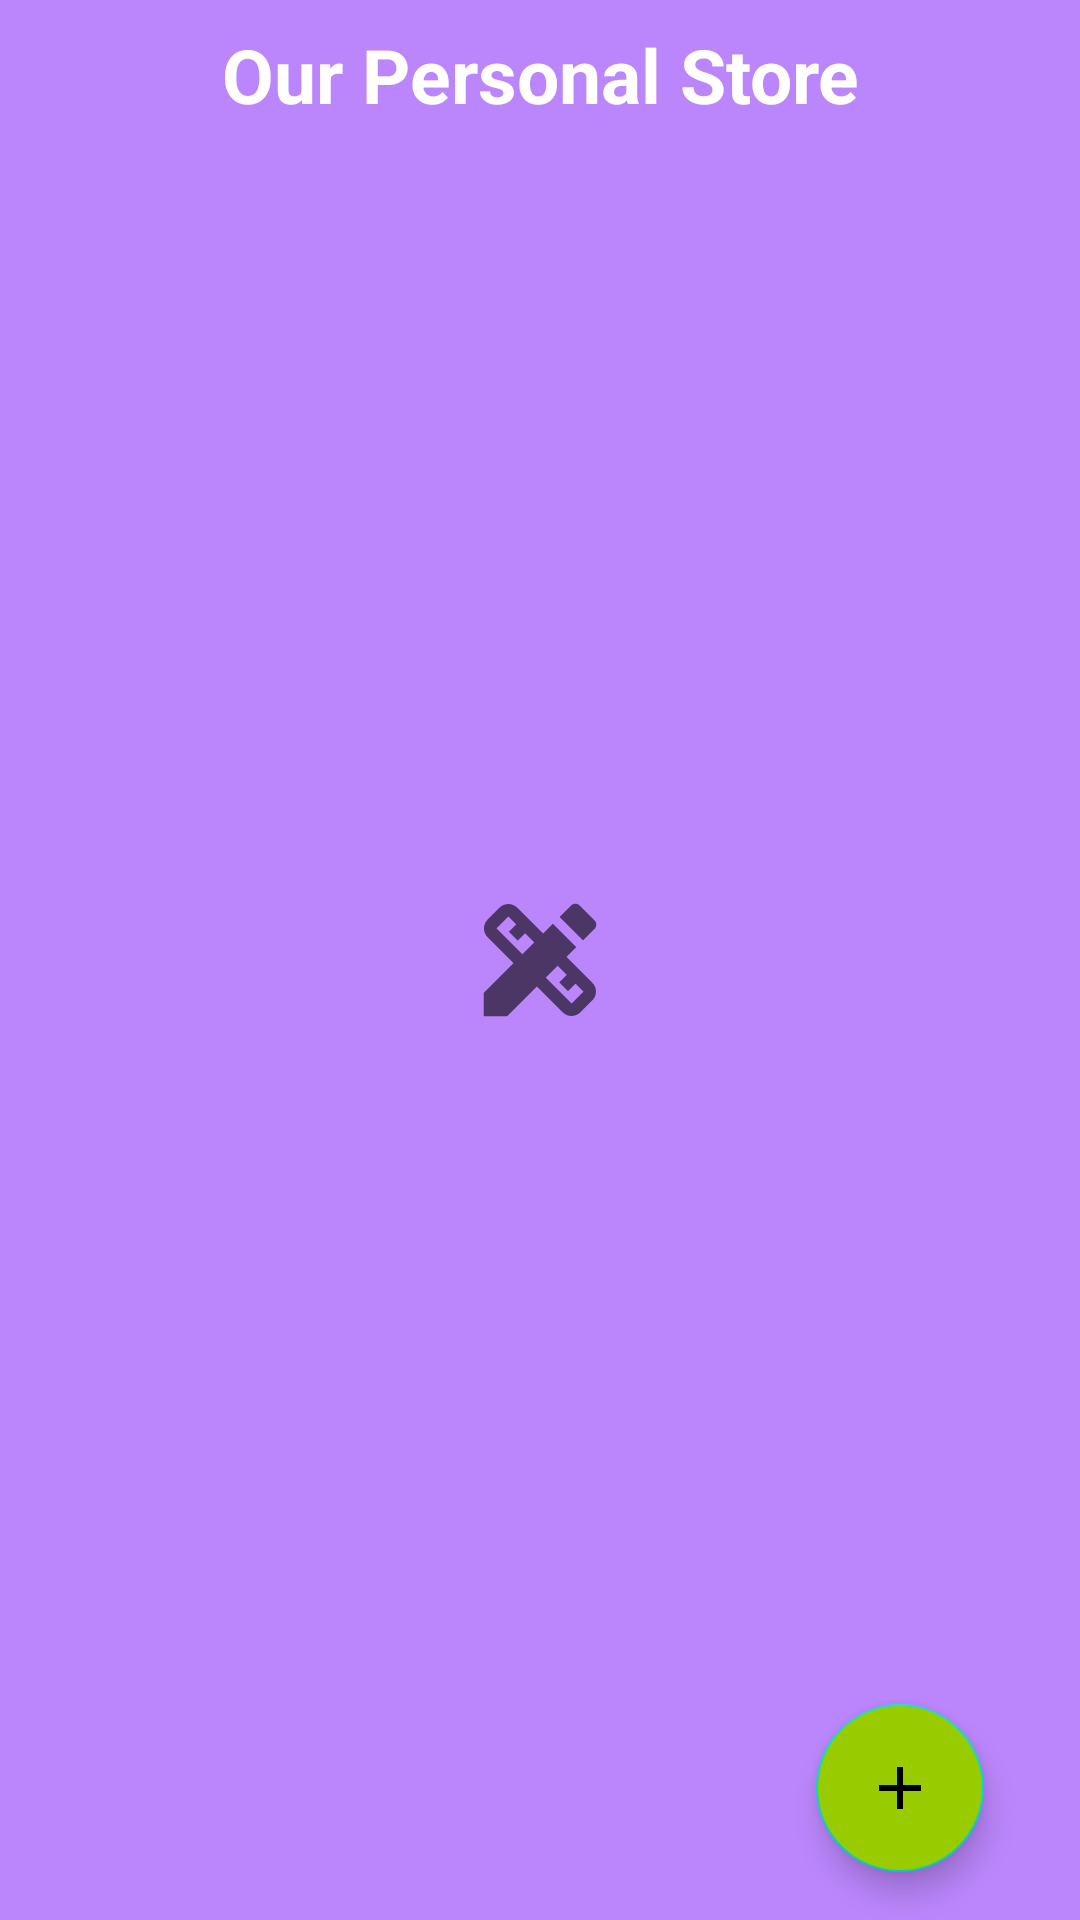

Icons on this 1080w x 1920h Android screen, each with the point to tap as (x,y):
add: (900,1788)
design services: (540,960)
